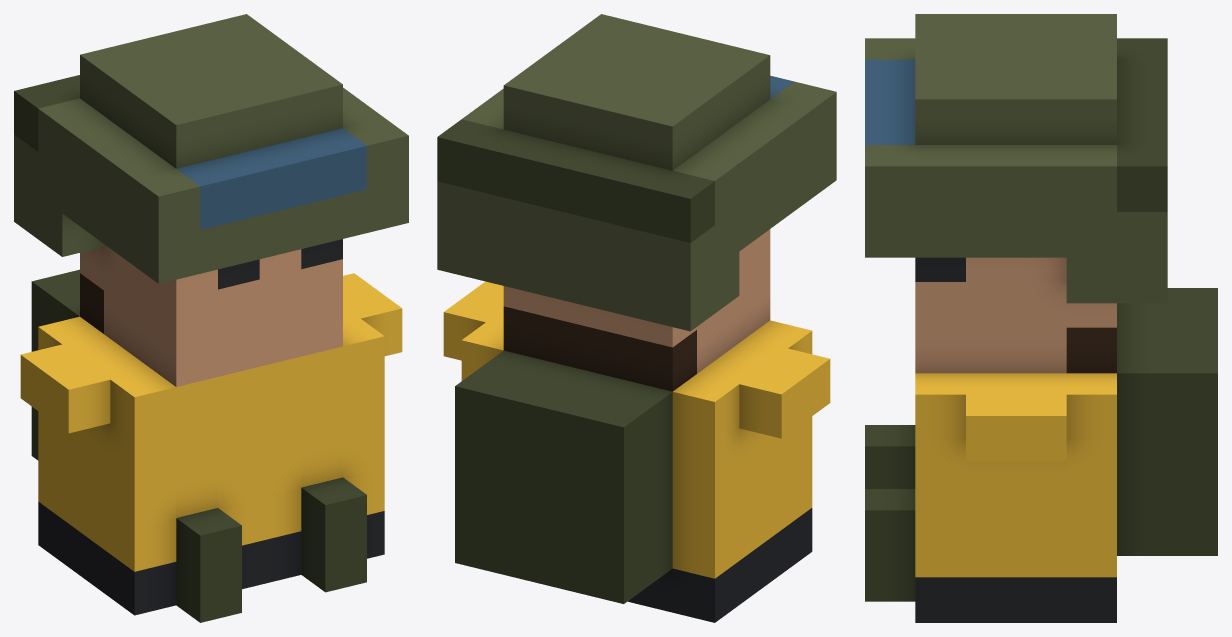
The model's file is cm_rifle_t_2.glb.
The picture shows the model from 3 angles, left to right: view 1: azimuth 30°, elevation 25°; view 2: azimuth 150°, elevation 25°; view 3: azimuth 270°, elevation 25°; orthographic projection. The views are drawn at different scales.
Parts seen in each view (by area): view 1: cm_rifle_t_2_body; view 2: cm_rifle_t_2_body; view 3: cm_rifle_t_2_body.
Boxes of the visible parts, x1,y1,x2,y2 form: cm_rifle_t_2_body: (14,14,408,622); cm_rifle_t_2_body: (437,14,836,622); cm_rifle_t_2_body: (865,14,1217,622).
Size of the model in its own units: 0.5 by 0.6875 by 0.4375.
Materials: 1 (1 with a texture image).
